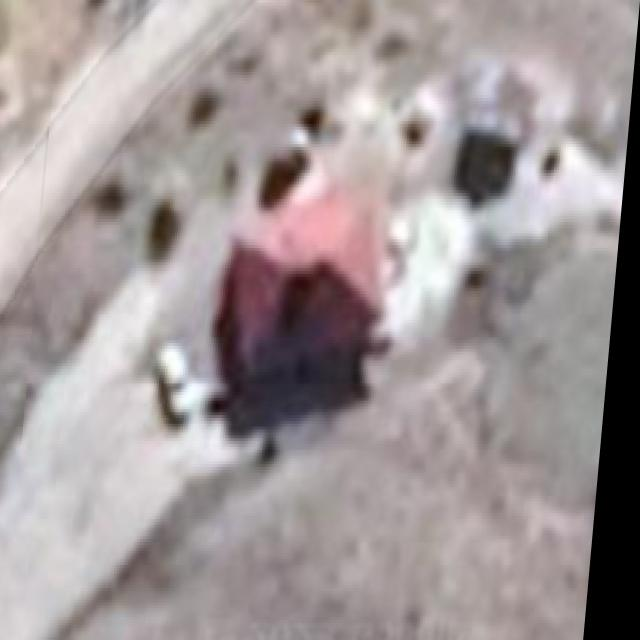Batiment: (220, 185, 392, 439)
